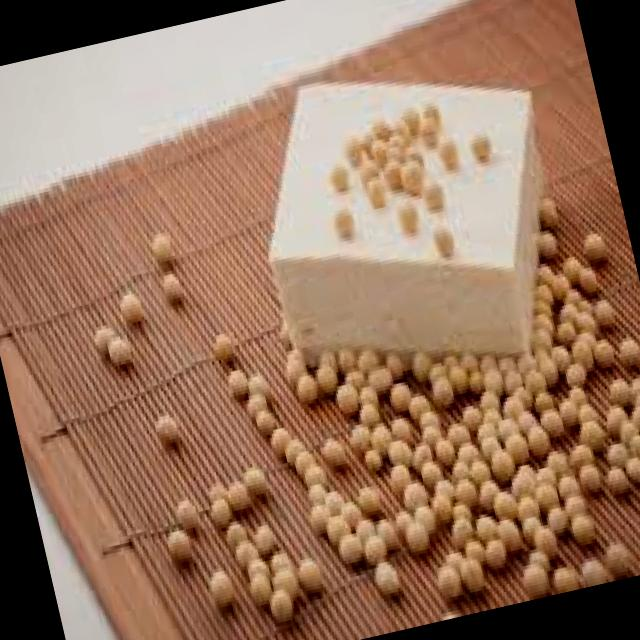tof: (233, 6, 600, 410)
